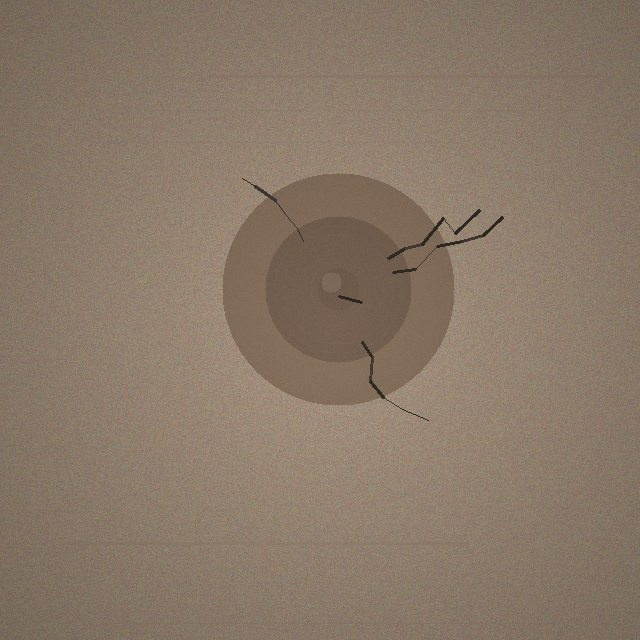crack: (222, 173, 454, 405)
